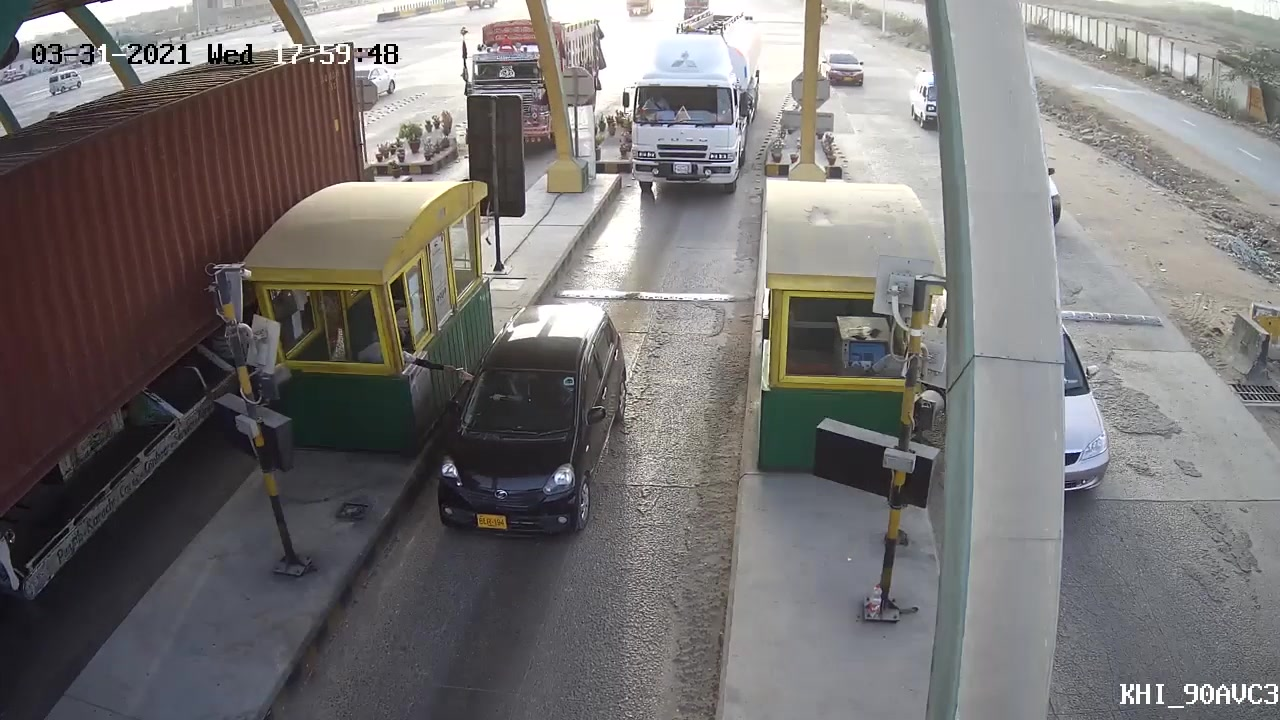F1: (412, 293, 635, 539)
F6: (608, 8, 768, 199)
